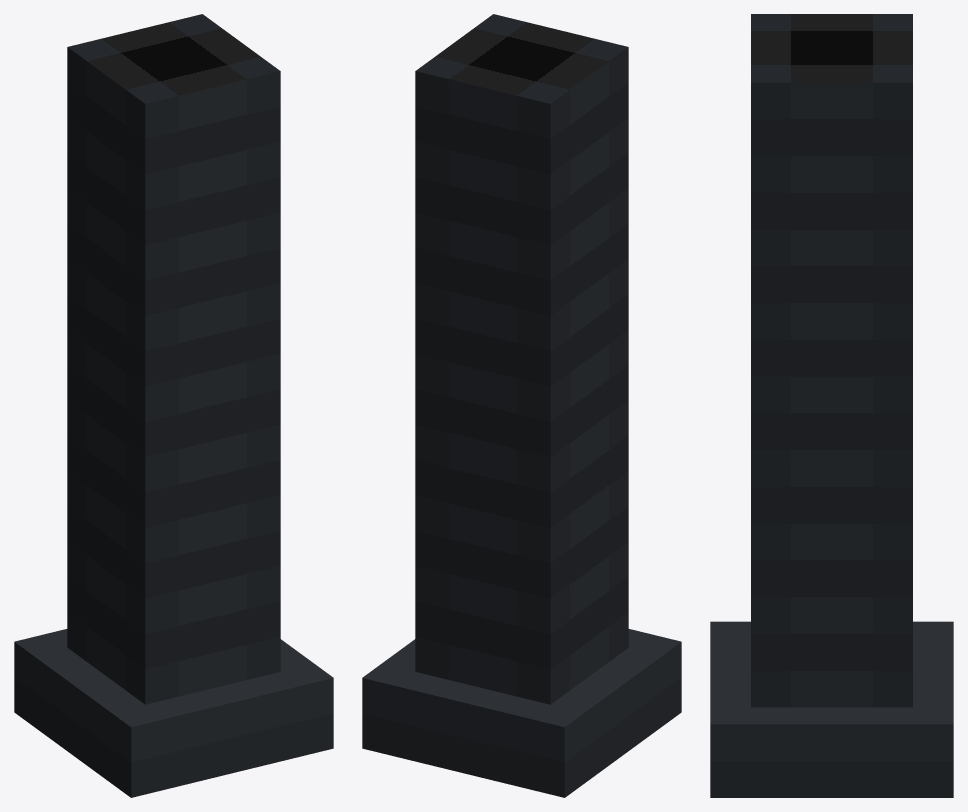
File: singleAxelLeadingTruckPin.obj
3 views of the same model, side by side, from view 1: azimuth 30°, elevation 25°; view 2: azimuth 150°, elevation 25°; view 3: azimuth 270°, elevation 25° (orthographic). The views are drawn at different scales.
Visible parts, largest first — view 1: cube; view 2: cube; view 3: cube.
Part boxes in pixels (x1=…): cube: x1=14, y1=14, x2=333, y2=797; cube: x1=362, y1=14, x2=681, y2=797; cube: x1=710, y1=14, x2=953, y2=797.
Size of the model in its own units: 0.375 by 1.19 by 0.375.
